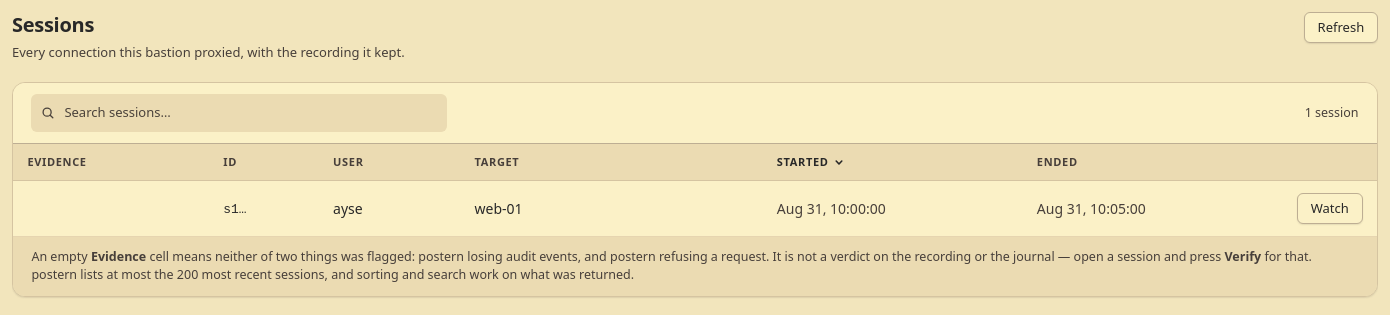
Scenario: kayıt izleme › kayıt hiç tutulmadıysa oynatıcıyı açmıyor, sebebini söylüyor
Click the button "Watch": (1330,208) [1297, 193, 1363, 224]
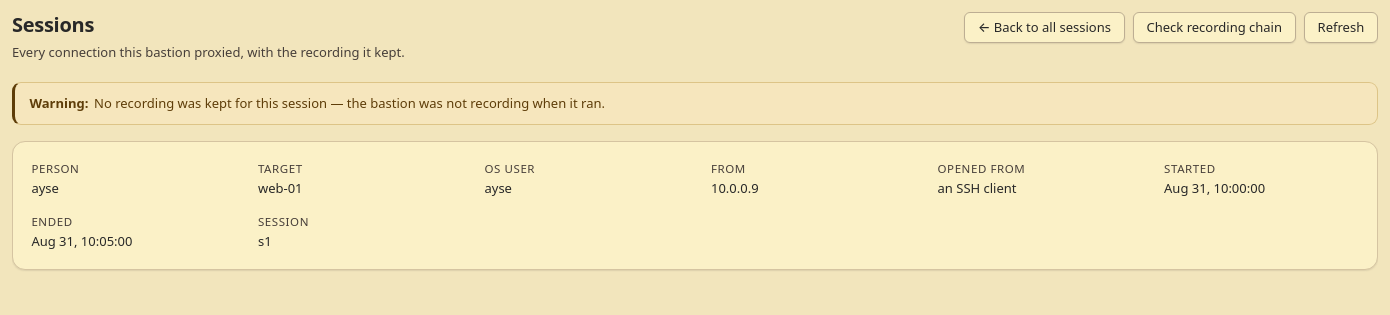
expect the text "No recording was kept" is shown: met, box [94, 94, 605, 112]
